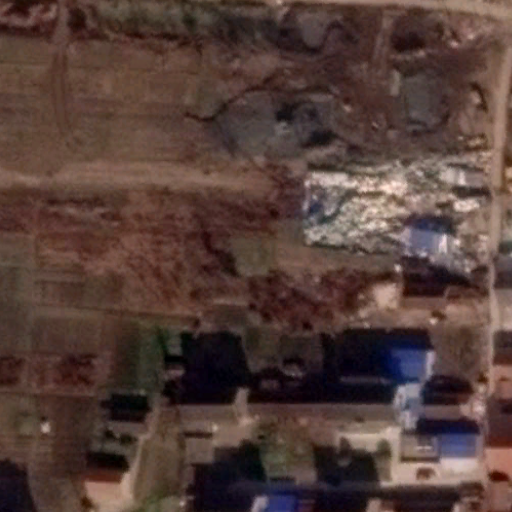msw: (303, 165, 454, 250)
